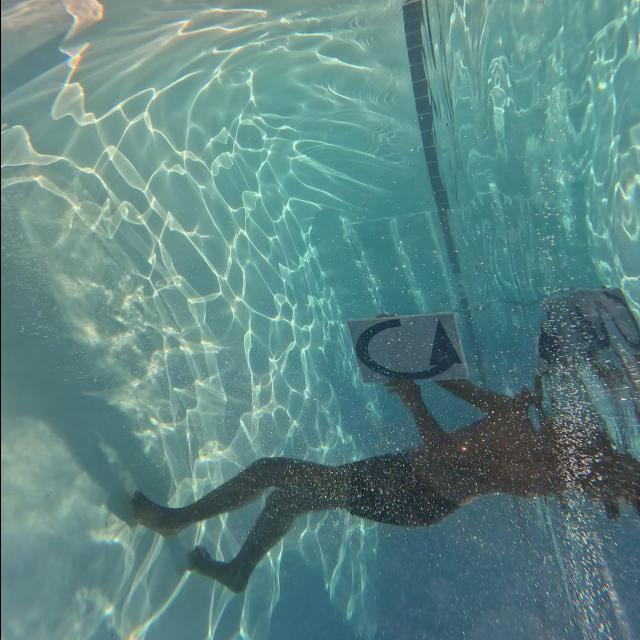blue_side: (352, 312, 470, 382)
